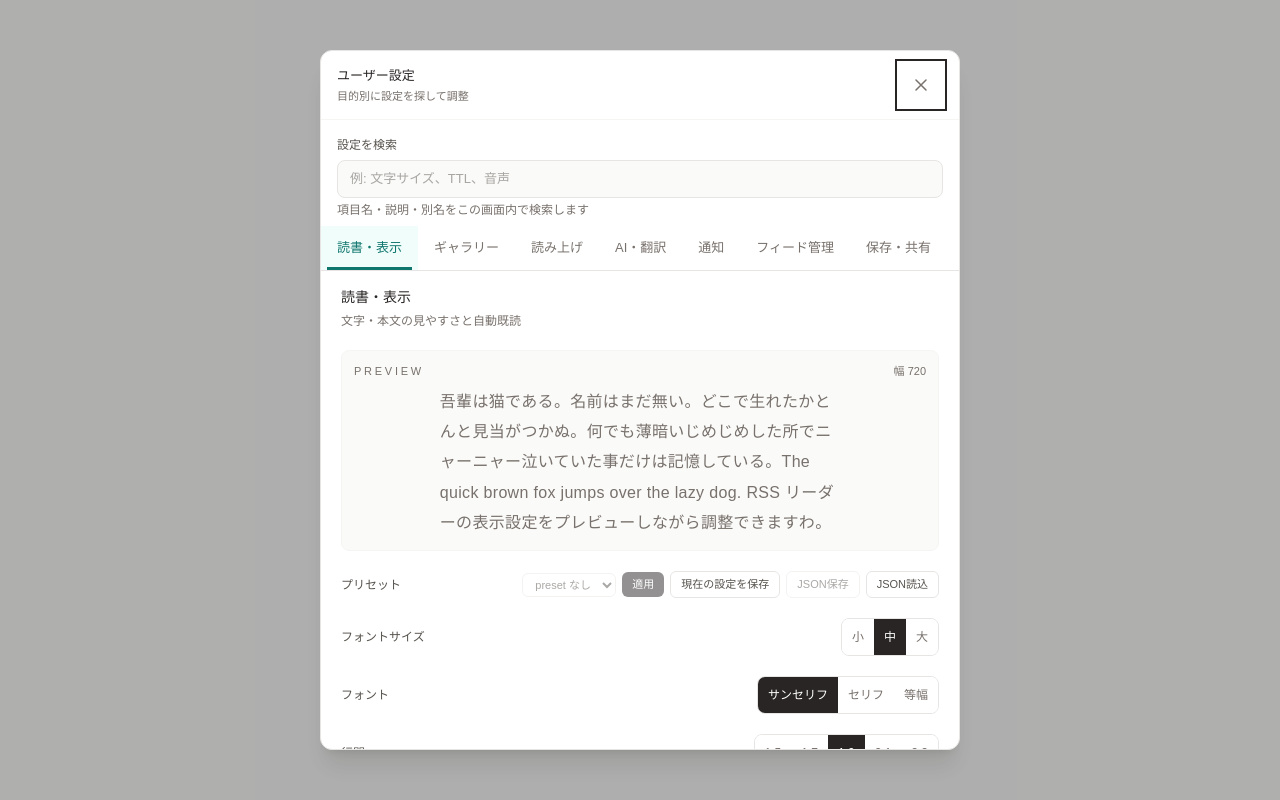
Test: purpose-based settings navigation › retains tab roving focus and provides a safe notice for unavailable conditional settings
Press End in the element showing "読書・表示 ギャラリー 読み上げ AI・翻訳 通知 フィード管理 保存・共有 バックアップ・連携", box [321, 226, 959, 270]
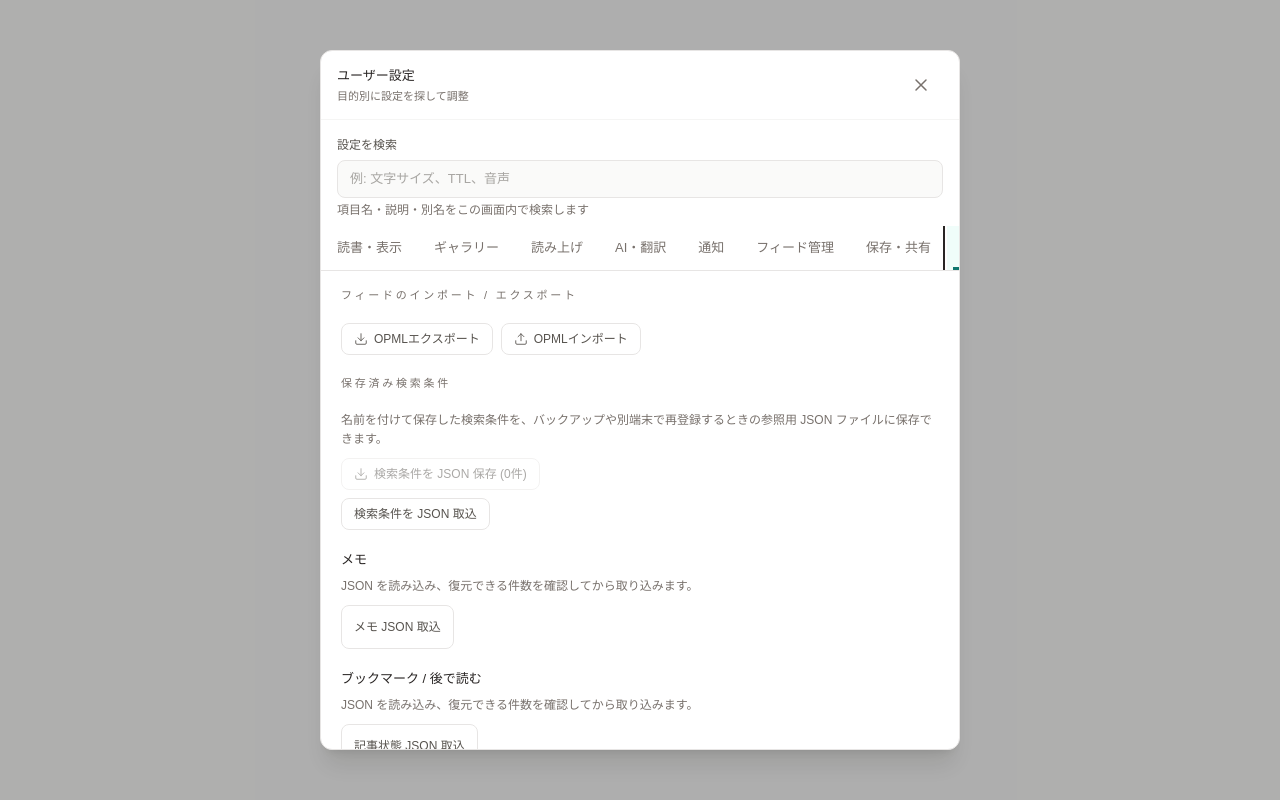
Press ArrowRight in the element showing "読書・表示 ギャラリー 読み上げ AI・翻訳 通知 フィード管理 保存・共有 バックアップ・連携", box [321, 226, 959, 270]
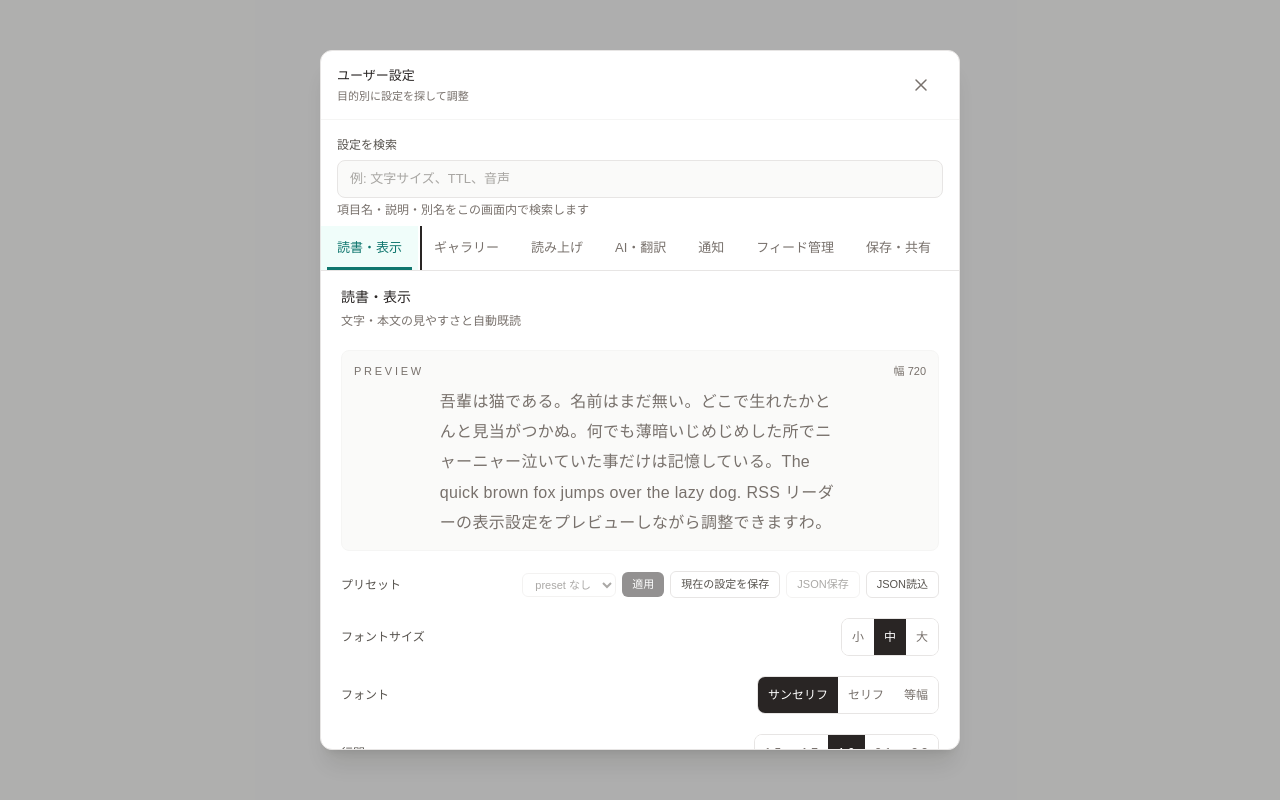
In the search field labelled "設定を検索": (640, 179) [337, 160, 943, 198], type "自動既読タイミング"
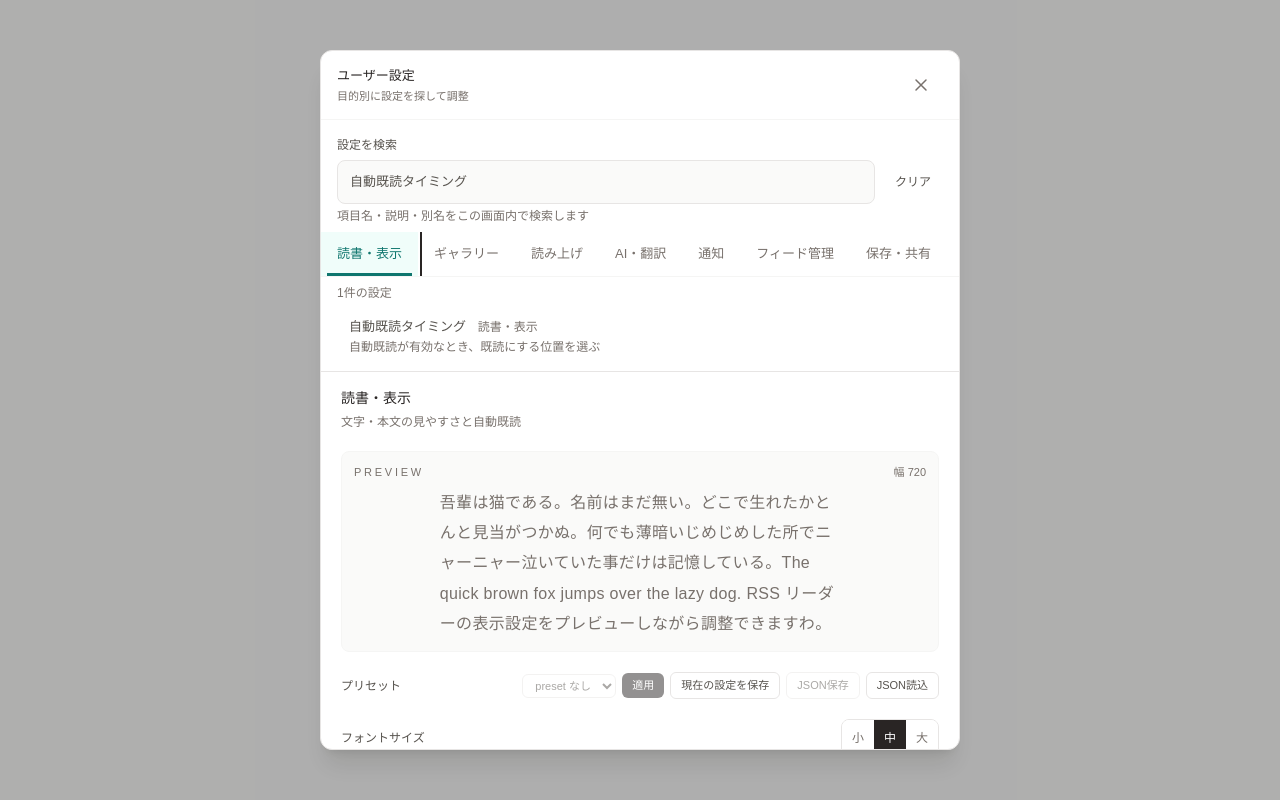
Click the button "自動既読タイミング 読書・表示 自動既読が有効なとき、既読にする位置を選ぶ": click(408, 326) [337, 309, 943, 362]
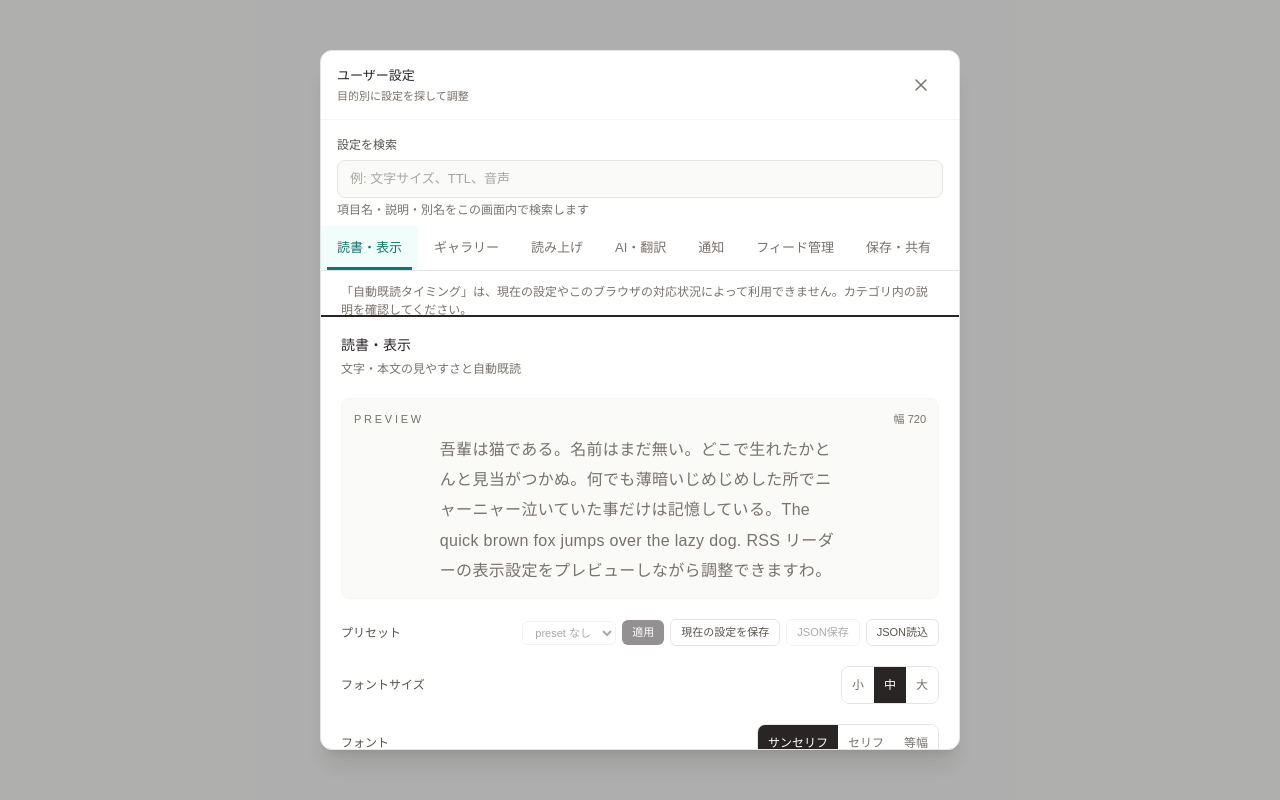
Now the message shows "現在の設定やこのブラウザ", box [341, 284, 928, 316]
